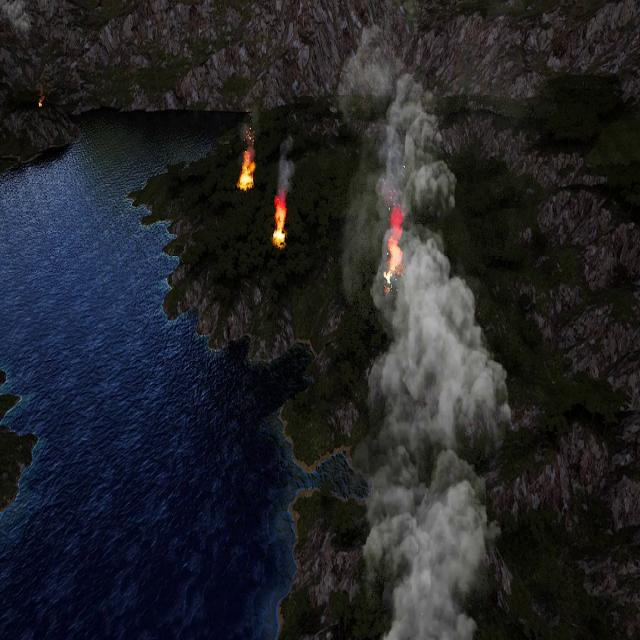fire: (381, 207, 402, 292), (273, 197, 288, 245), (240, 150, 256, 190), (36, 96, 42, 106)
smoke: (344, 55, 516, 640), (0, 0, 69, 38), (277, 134, 294, 197), (236, 112, 259, 157)
